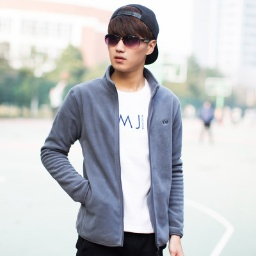face: (107, 6, 156, 71)
